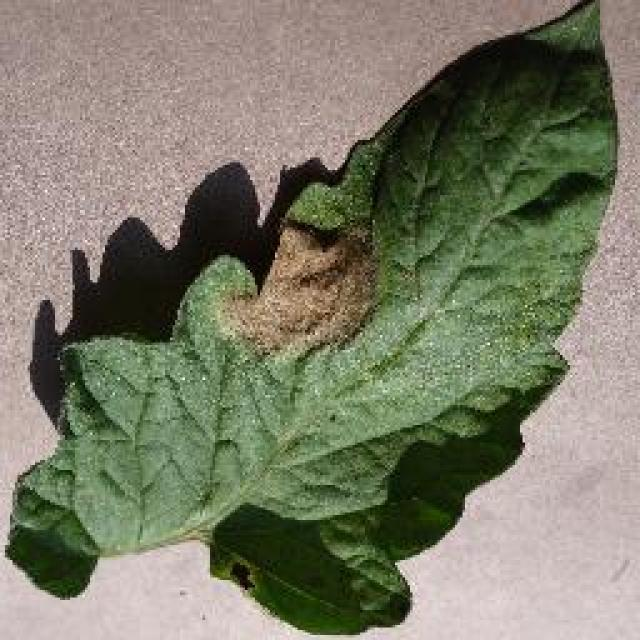Tomato late blight leaf: (0, 0, 620, 635)
